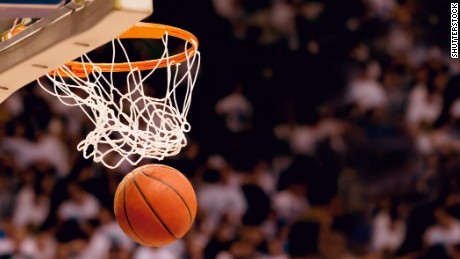ball: (104, 159, 205, 252)
basket: (40, 12, 206, 163)
